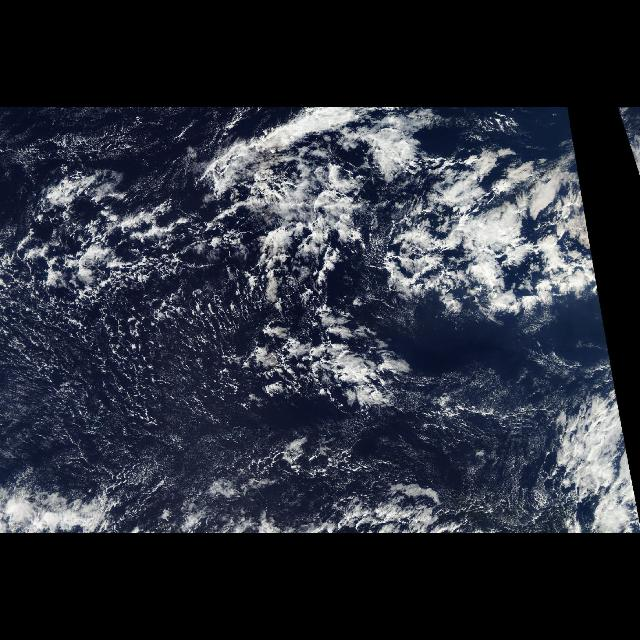Flower: (378, 146, 592, 336)
Gravel: (0, 162, 264, 446)
Sugar: (0, 280, 262, 504)
